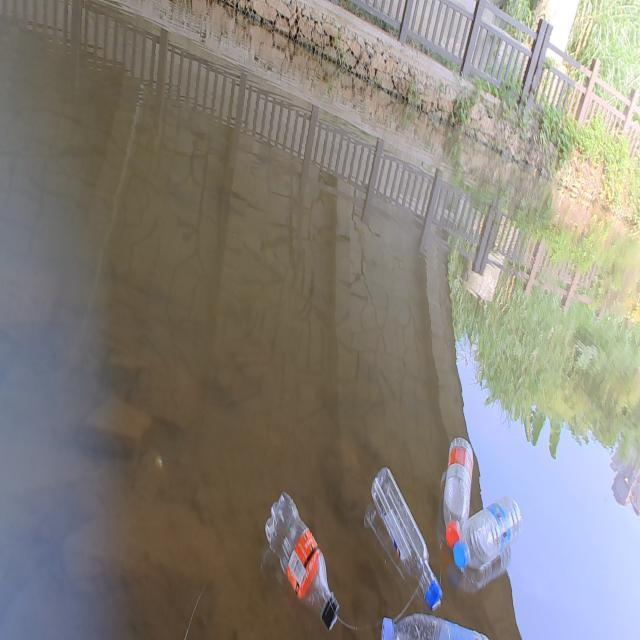garbage: (366, 465, 442, 611), (264, 491, 340, 631), (446, 495, 522, 572), (436, 436, 474, 550), (381, 612, 490, 638)
